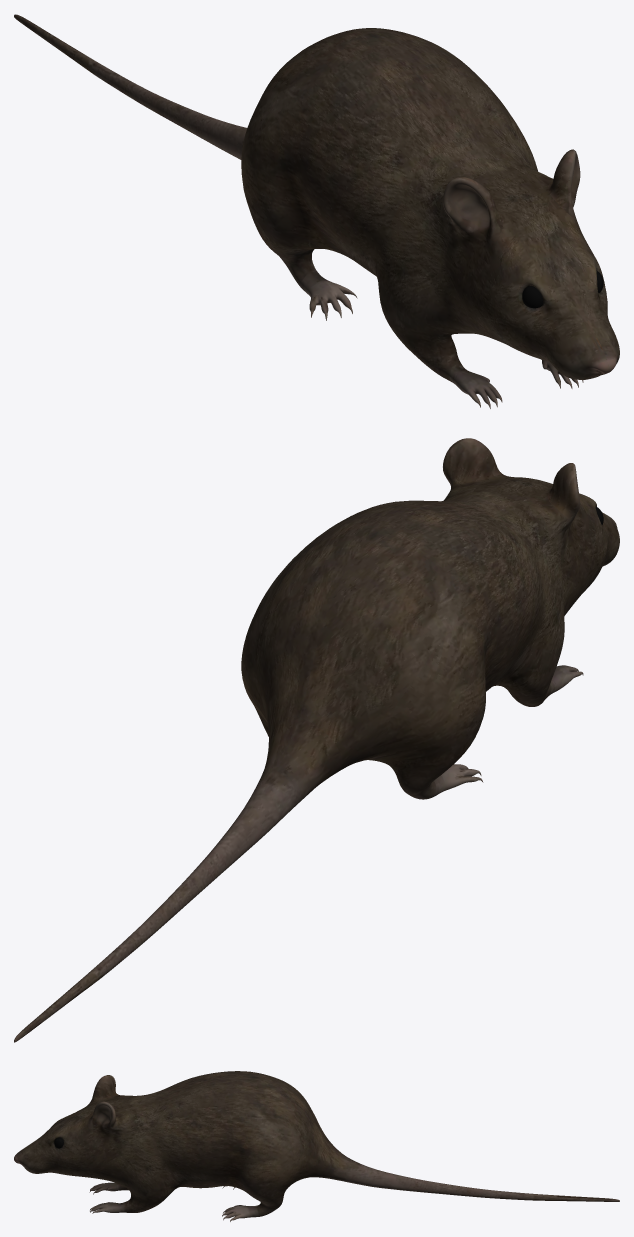
Rendered from rat.glb.
3 renders of one model, top to bottom at view 1: azimuth 30°, elevation 25°; view 2: azimuth 150°, elevation 25°; view 3: azimuth 270°, elevation 25°, orthographic. The views are drawn at different scales.
Visible parts, largest first — view 1: street_rat; view 2: street_rat; view 3: street_rat.
Boxes of the visible parts, box(x1,y1,x2,y2) form: street_rat: box(14, 14, 619, 408); street_rat: box(14, 438, 619, 1042); street_rat: box(14, 1071, 619, 1221).
Size of the model in its own units: 0.032 by 0.0339 by 0.1483.
Materials: 1 (1 with a texture image).
